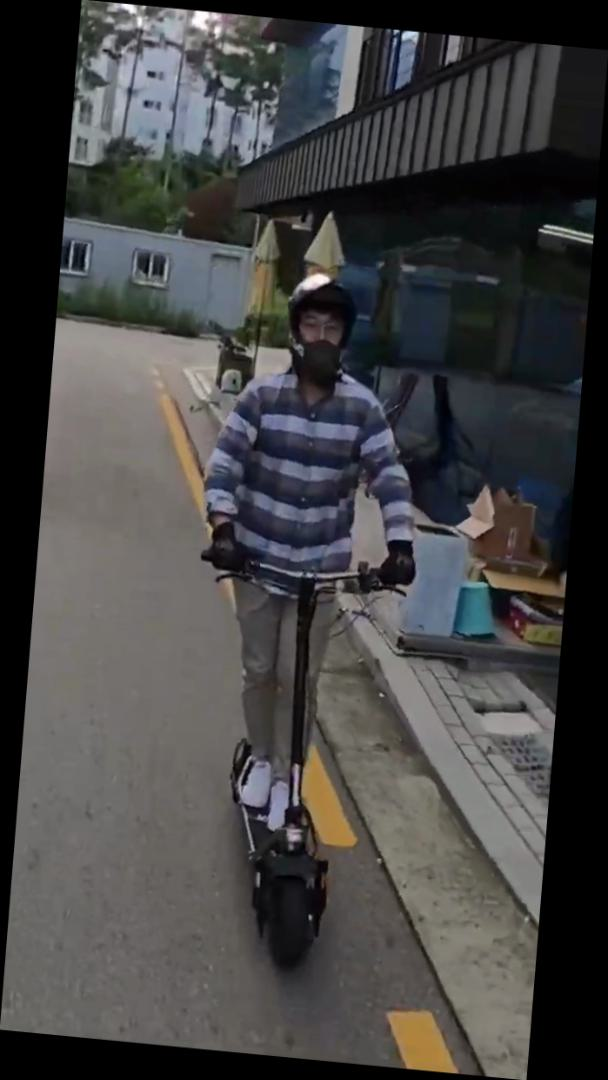helmet: (163, 262, 442, 983)
